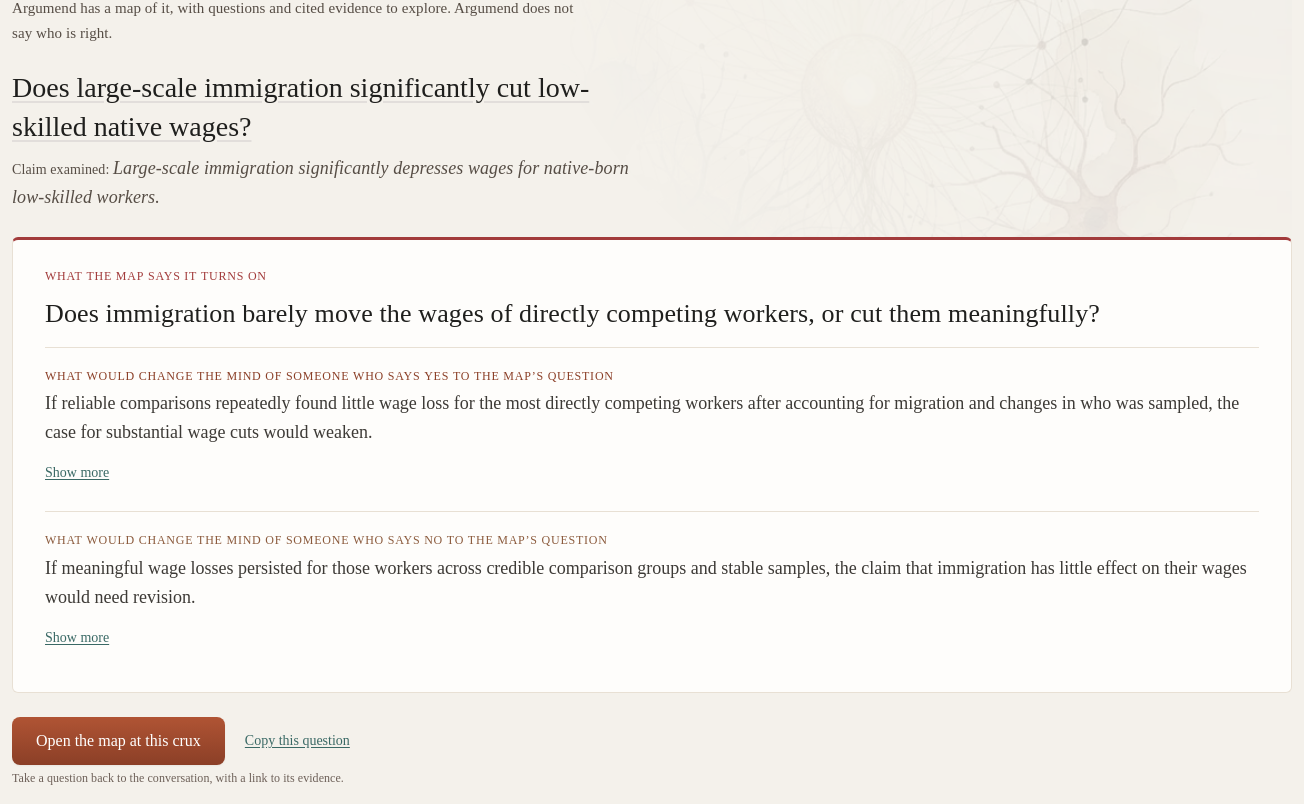
Test case: copy feedback › clears an earlier success when a question copy retry fails
This screenshot has width=1304, height=804.
Click the button "Copy this question": (297, 741) [245,719,350,763]
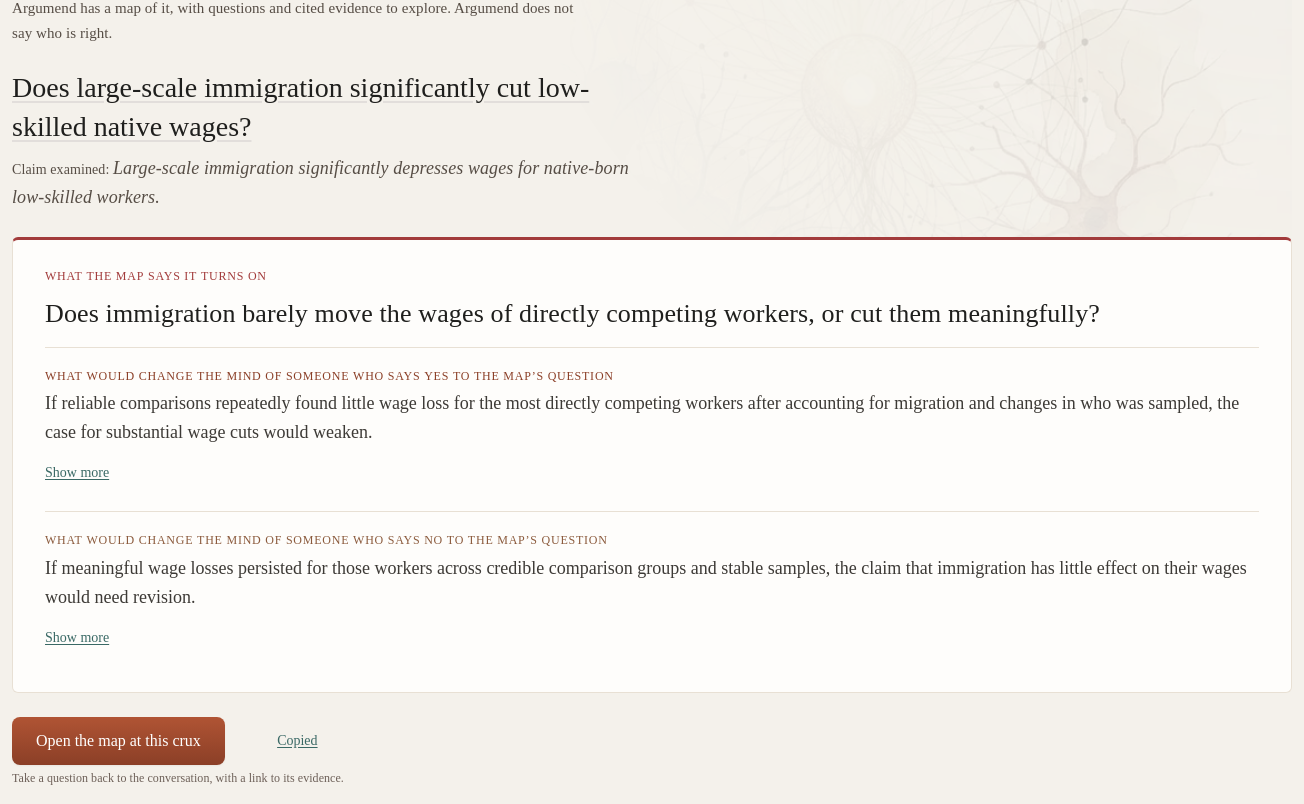
Click the button "Copied": (297, 741) [245,719,350,763]
(page scrolled)
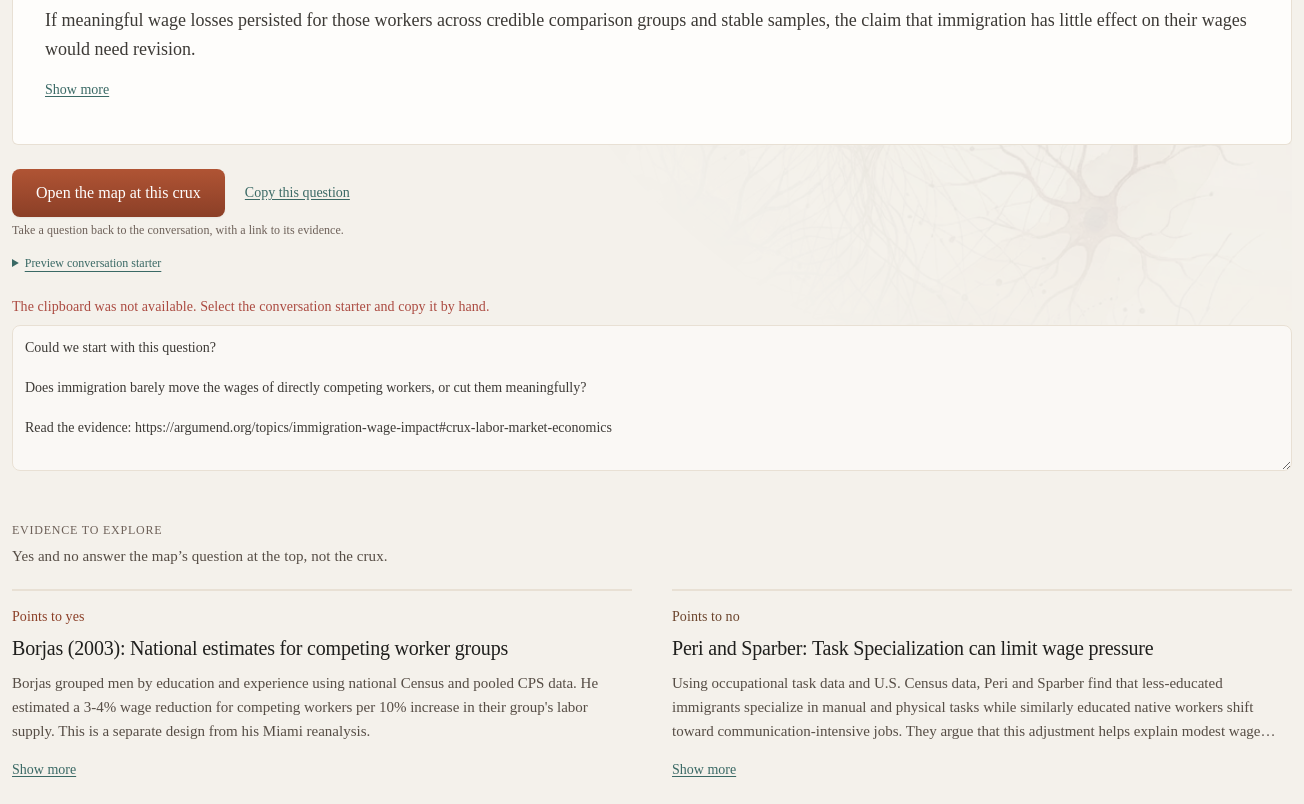
expect the button "Copied" is gone: met
expect the text box named "Question to copy" is shown: met, box [12,324,1292,470]
